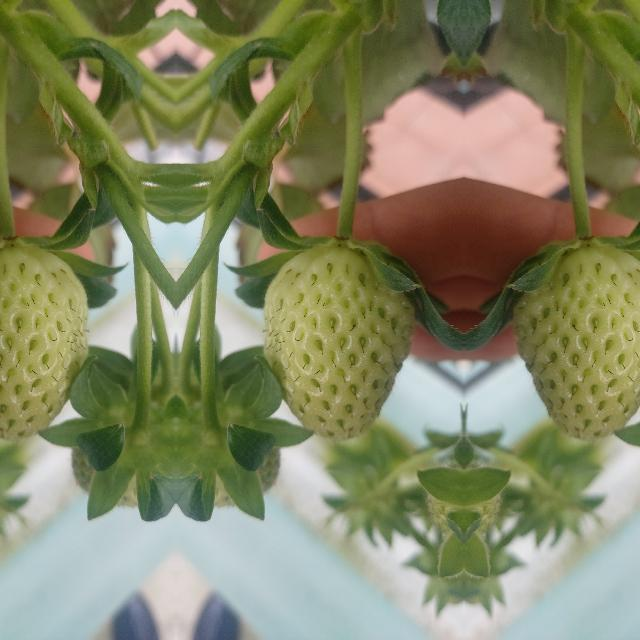Health_25: (262, 248, 412, 440), (514, 248, 640, 439), (0, 248, 88, 439)
